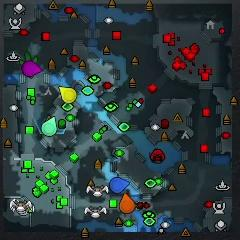p1: (110, 177, 130, 193)
p2: (42, 116, 57, 136)
p3: (22, 60, 42, 76)
p4: (58, 86, 77, 104)
p5: (119, 193, 136, 214)
x4: (20, 52, 38, 64)
